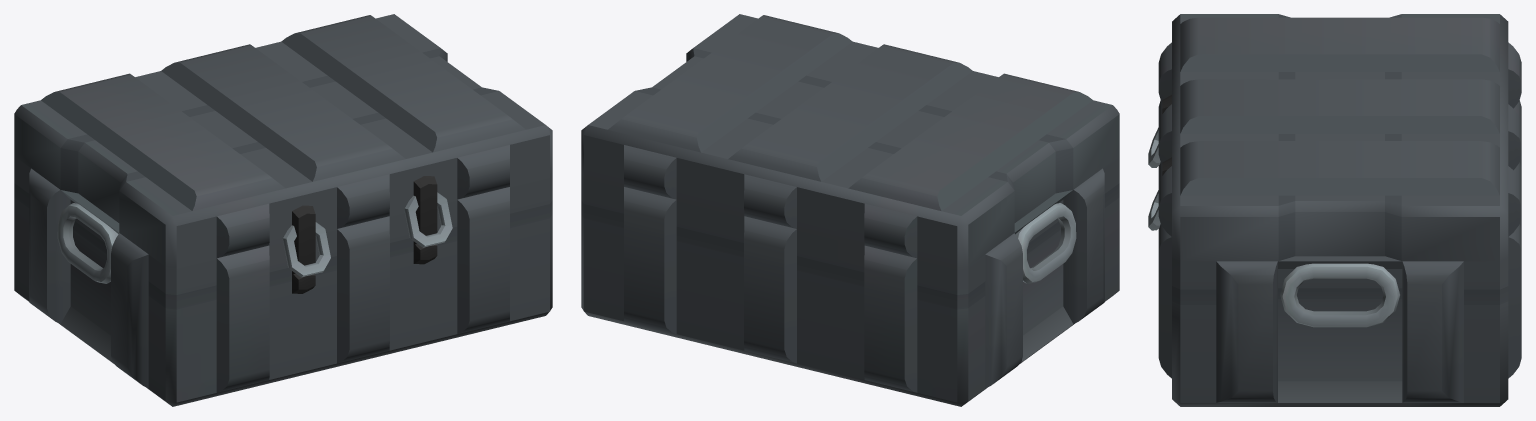
Rendered from containers_crate_medium_grey.glb.
3 renders of one model, left to right at view 1: azimuth 30°, elevation 25°; view 2: azimuth 150°, elevation 25°; view 3: azimuth 270°, elevation 25°, orthographic. The views are drawn at different scales.
Visible parts, largest first — view 1: Containers_Crate_Medium_Grey; view 2: Containers_Crate_Medium_Grey; view 3: Containers_Crate_Medium_Grey.
Part boxes in pixels (left/top/right/bottom): Containers_Crate_Medium_Grey: left=14, top=14, right=552, bottom=406; Containers_Crate_Medium_Grey: left=581, top=14, right=1119, bottom=406; Containers_Crate_Medium_Grey: left=1148, top=14, right=1521, bottom=406.
Size of the model in its own units: 1.48 by 0.7 by 1.11.
Materials: 1 (1 with a texture image).
